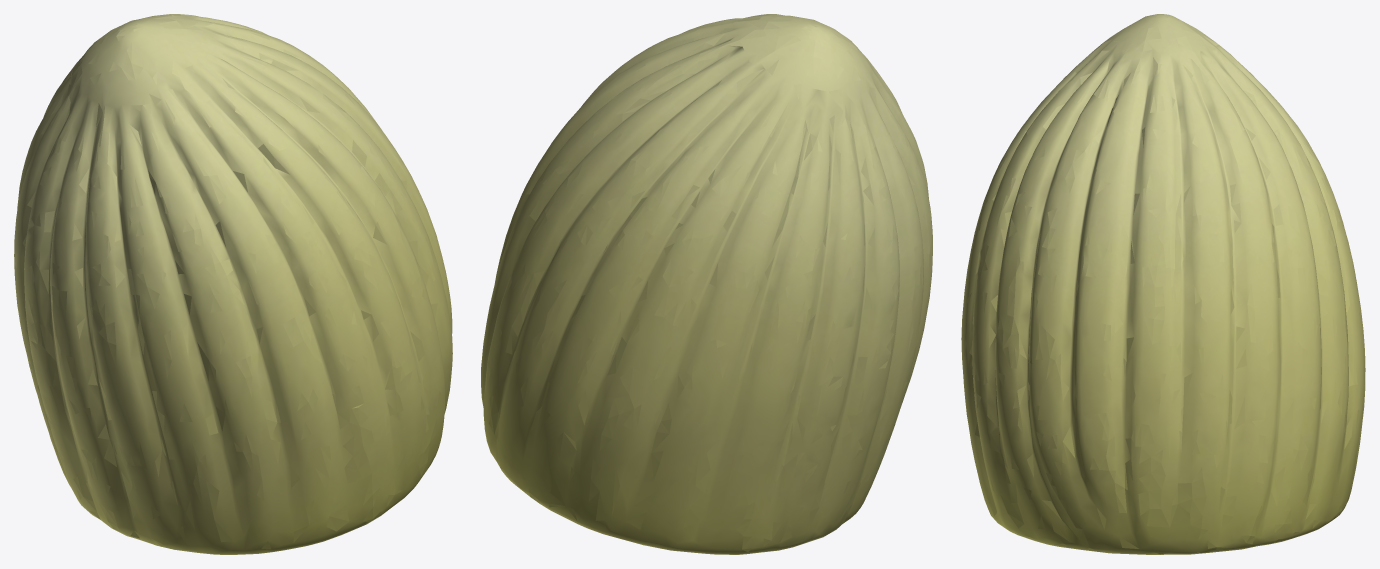
Rendered from huevo_danaus.fbx.
The picture shows the model from 3 angles, left to right: view 1: azimuth 30°, elevation 25°; view 2: azimuth 150°, elevation 25°; view 3: azimuth 270°, elevation 25°; orthographic projection. The views are drawn at different scales.
Parts seen in each view (by area): view 1: tripo_node_ef3d39a1; view 2: tripo_node_ef3d39a1; view 3: tripo_node_ef3d39a1.
Part boxes in pixels (<box>): tripo_node_ef3d39a1: <box>14,14,452,554</box>; tripo_node_ef3d39a1: <box>481,14,932,554</box>; tripo_node_ef3d39a1: <box>961,14,1365,554</box>.
Bounding box in the file's own units: 0.4872 × 0.5917 × 0.4707.
1 material, 1 textured.
